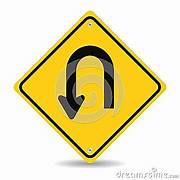back: (13, 9, 167, 164)
